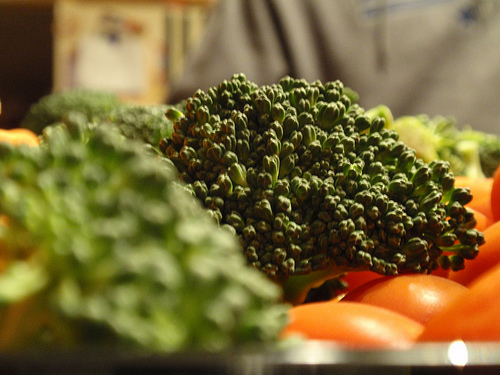broccoli: (158, 72, 485, 304), (0, 111, 292, 355)
